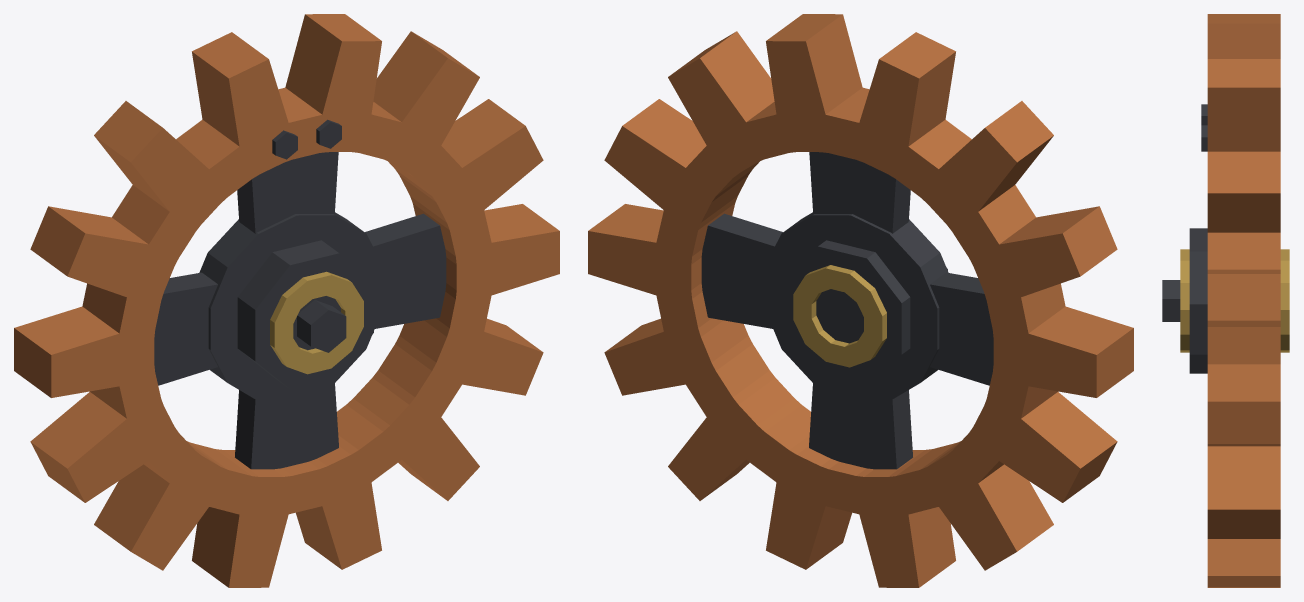
The model's file is gear_s.fbx.
3 views of the same model, side by side, from view 1: azimuth 30°, elevation 25°; view 2: azimuth 150°, elevation 25°; view 3: azimuth 270°, elevation 25° (orthographic).
Parts seen in each view (by area): view 1: Gear_Puzzle_S_Rim, Gear_Puzzle_S_Spokes, Gear_Puzzle_S_Hub, Gear_Puzzle_S_SizeDots; view 2: Gear_Puzzle_S_Rim, Gear_Puzzle_S_Spokes, Gear_Puzzle_S_Hub; view 3: Gear_Puzzle_S_Rim, Gear_Puzzle_S_Hub, Gear_Puzzle_S_SizeDots.
Part boxes in pixels (x1,y1,x2,y2): Gear_Puzzle_S_Rim: (14, 14, 559, 587); Gear_Puzzle_S_Spokes: (154, 152, 446, 469); Gear_Puzzle_S_Hub: (237, 240, 373, 389); Gear_Puzzle_S_SizeDots: (272, 119, 341, 159); Gear_Puzzle_S_Rim: (588, 14, 1133, 587); Gear_Puzzle_S_Spokes: (701, 152, 993, 469); Gear_Puzzle_S_Hub: (783, 240, 947, 382); Gear_Puzzle_S_Rim: (1207, 14, 1280, 587); Gear_Puzzle_S_Hub: (1162, 228, 1289, 373); Gear_Puzzle_S_SizeDots: (1201, 104, 1207, 151).
Bounding box in the file's own units: 63.39 × 62.95 × 14.
